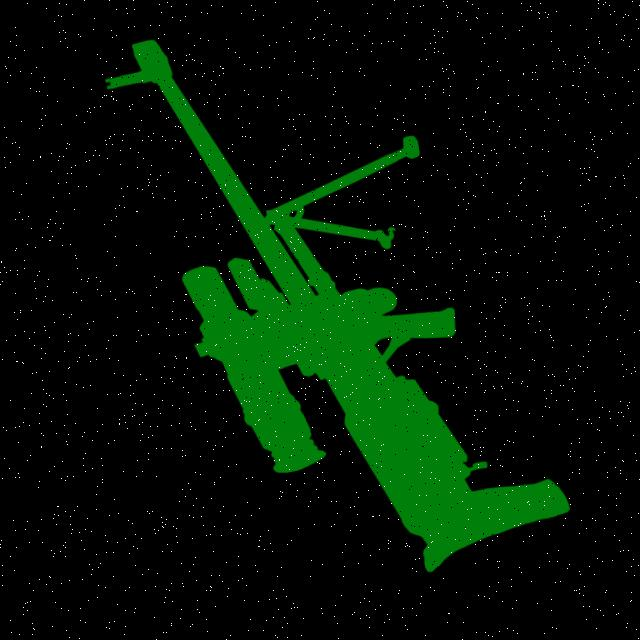firearm: (92, 0, 576, 613)
